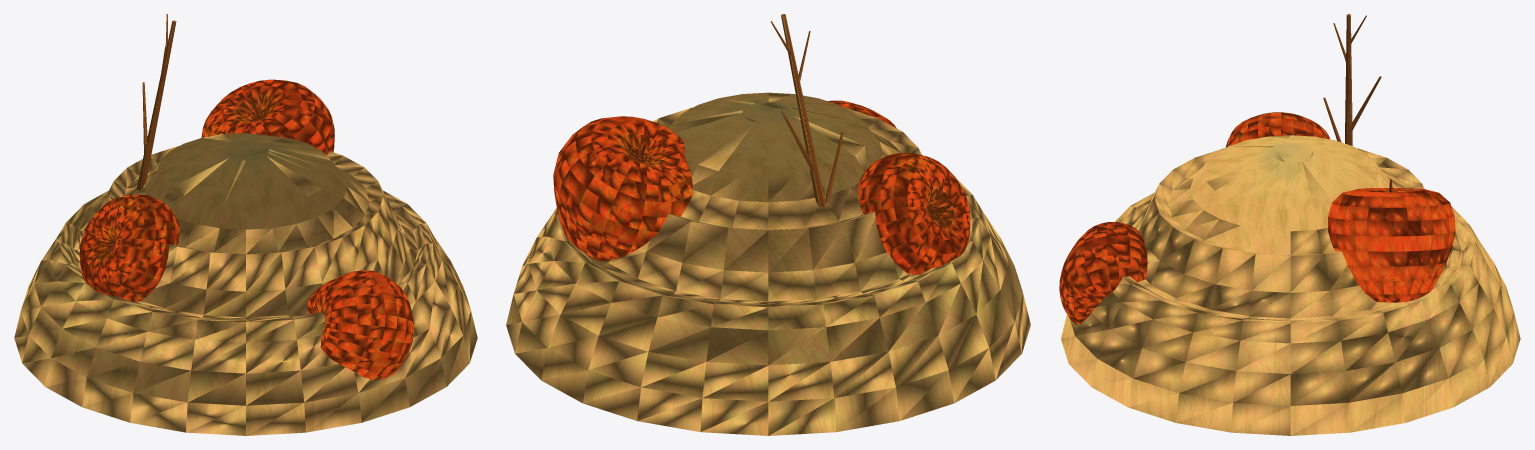
3 views of the same model, side by side, from view 1: azimuth 30°, elevation 25°; view 2: azimuth 150°, elevation 25°; view 3: azimuth 270°, elevation 25° (orthographic). The views are drawn at different scales.
Visible parts, largest first — view 1: Cone001, japko002, japko001, japko, Cone002; view 2: Cone001, japko, japko001, Cone002; view 3: Cone001, japko, japko002, japko001, Cone002.
Part boxes in pixels (x1,y1,x2,y2): Cone001: [14, 133, 477, 435]; japko002: [307, 270, 413, 379]; japko001: [79, 194, 179, 302]; japko: [201, 79, 334, 155]; Cone002: [136, 20, 176, 190]; Cone001: [506, 92, 1030, 435]; japko: [553, 116, 692, 261]; japko001: [858, 153, 970, 274]; Cone002: [781, 14, 825, 207]; Cone001: [1061, 135, 1520, 435]; japko: [1328, 179, 1455, 302]; japko002: [1059, 222, 1147, 324]; japko001: [1225, 112, 1329, 147]; Cone002: [1345, 14, 1352, 145].
Bounding box in the file's own units: 300 × 219 × 301.
